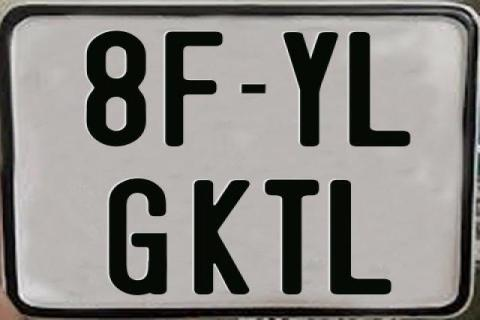0: (83, 30, 145, 146)
F: (163, 29, 224, 149)
G: (110, 179, 170, 299)
K: (192, 178, 253, 294)
L: (347, 30, 413, 148), (330, 179, 397, 293)
T: (266, 180, 322, 296)
Y: (282, 29, 338, 149)
